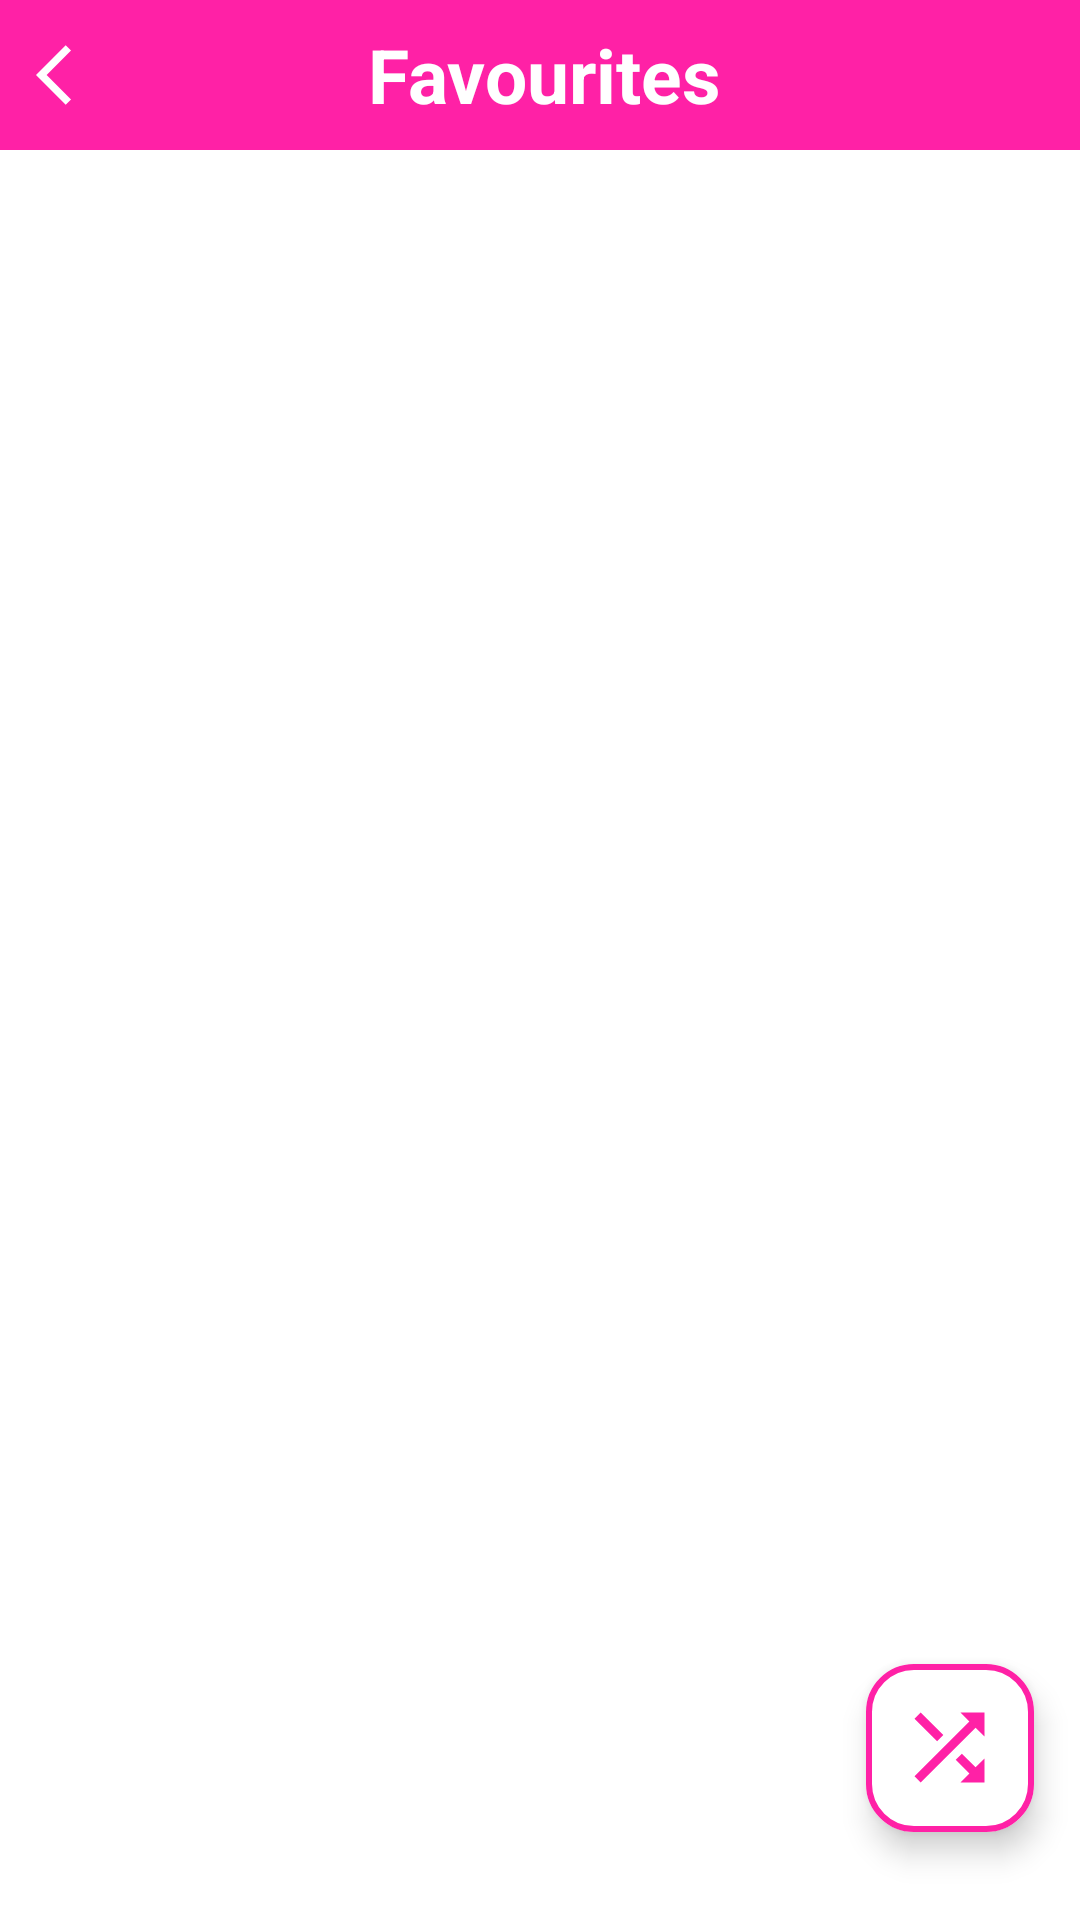

Named icons in this screenshot (1080 x 1920) and their bounding boxes, (x1, y1, x2, y2):
Back: (36, 45, 71, 105)
